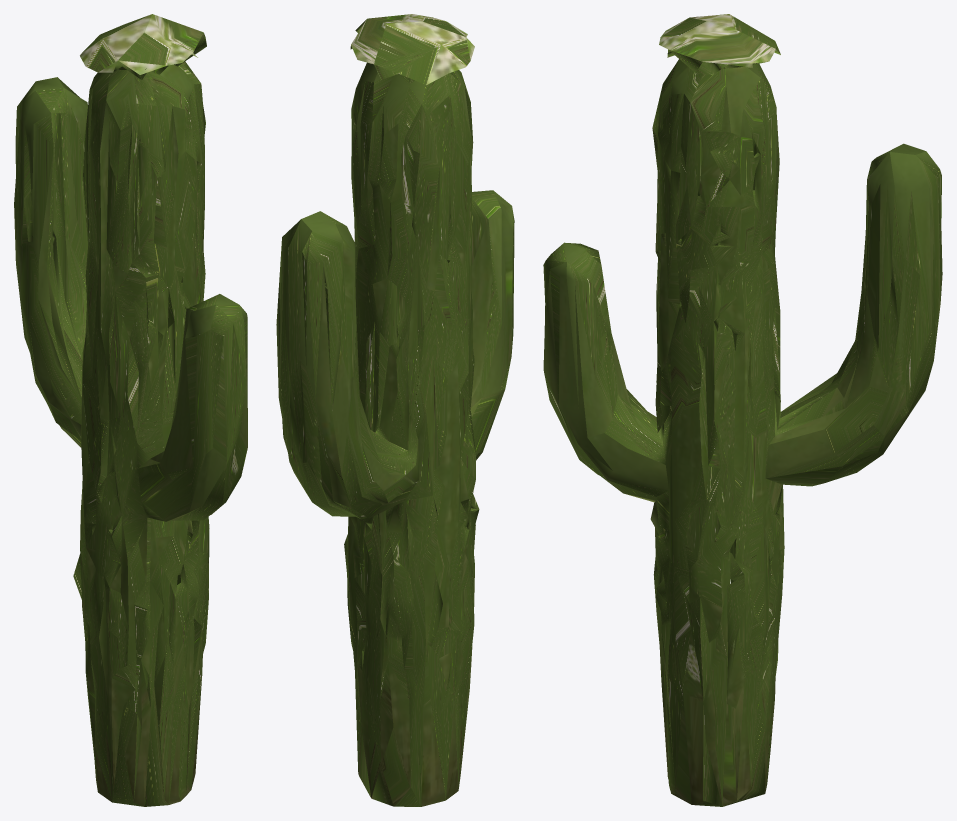
File: 01_saguaro_cactus.glb
The picture shows the model from 3 angles, left to right: view 1: azimuth 30°, elevation 25°; view 2: azimuth 150°, elevation 25°; view 3: azimuth 270°, elevation 25°; orthographic projection.
Visible parts, largest first — view 1: world; view 2: world; view 3: world.
Part boxes in pixels (<box>): world: <box>14,14,247,806</box>; world: <box>276,14,514,806</box>; world: <box>543,14,942,806</box>.
Size of the model in its own units: 0.1614 by 0.9952 by 0.4681.
Materials: 1 (1 with a texture image).
